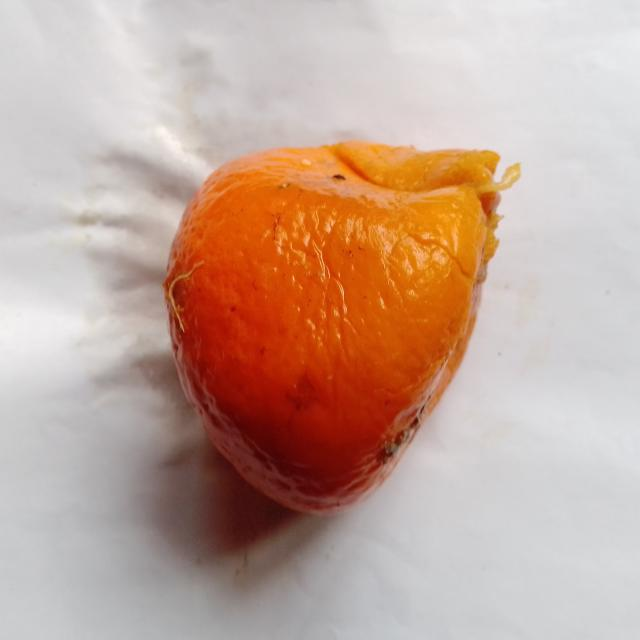orange: (165, 142, 518, 512)
